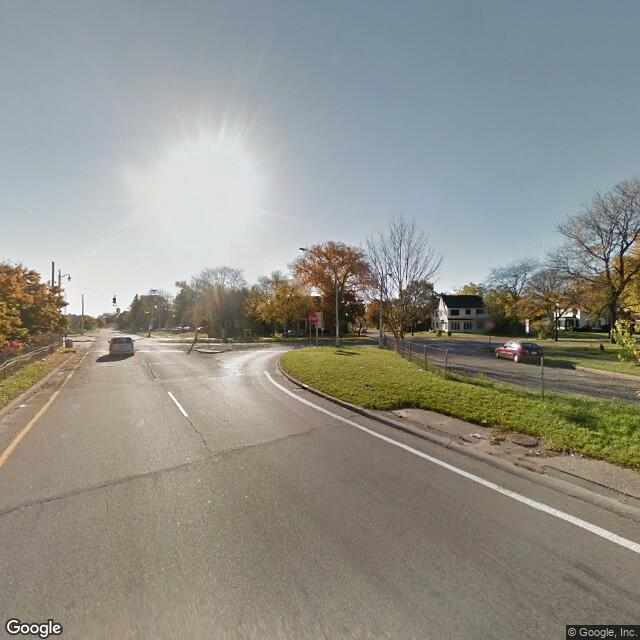litter: (565, 451, 586, 461), (470, 433, 484, 438)
